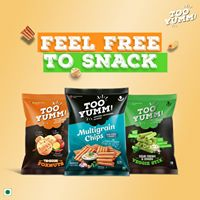plastic: (67, 89, 128, 172), (22, 91, 84, 172), (123, 94, 178, 173)
tooyumm: (77, 97, 116, 119), (164, 2, 199, 26), (132, 103, 166, 123), (35, 103, 68, 122)
wrapper: (24, 90, 179, 172)
